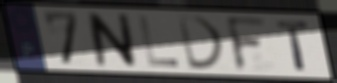7: (41, 9, 81, 68)
D: (175, 13, 228, 72)
F: (223, 15, 270, 74)
L: (136, 15, 182, 69)
N: (85, 11, 139, 69)
T: (274, 19, 312, 73)
